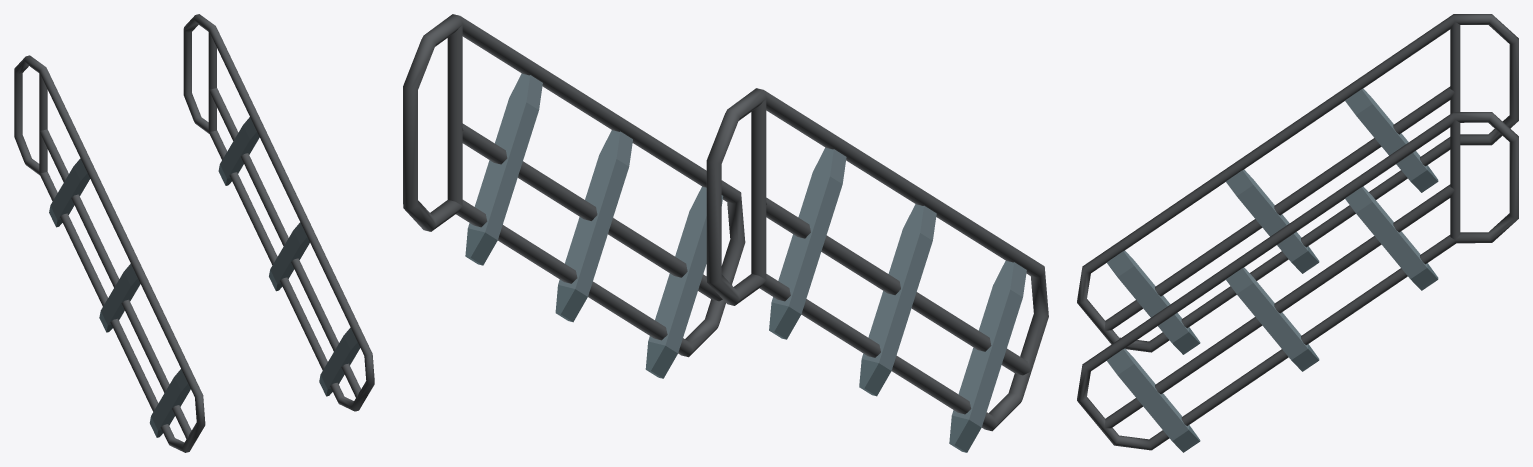
Rendered from Stair_type_B_fence_003.fbx.
The picture shows the model from 3 angles, left to right: view 1: azimuth 30°, elevation 25°; view 2: azimuth 150°, elevation 25°; view 3: azimuth 270°, elevation 25°; orthographic projection. The views are drawn at different scales.
Parts seen in each view (by area): view 1: Stair_type_B_fence_003; view 2: Stair_type_B_fence_003; view 3: Stair_type_B_fence_003.
Boxes of the visible parts, <box> form: Stair_type_B_fence_003: <box>14,14,374,452</box>; Stair_type_B_fence_003: <box>403,14,1048,452</box>; Stair_type_B_fence_003: <box>1077,14,1518,452</box>.
Size of the model in its own units: 171 by 309 by 261.
